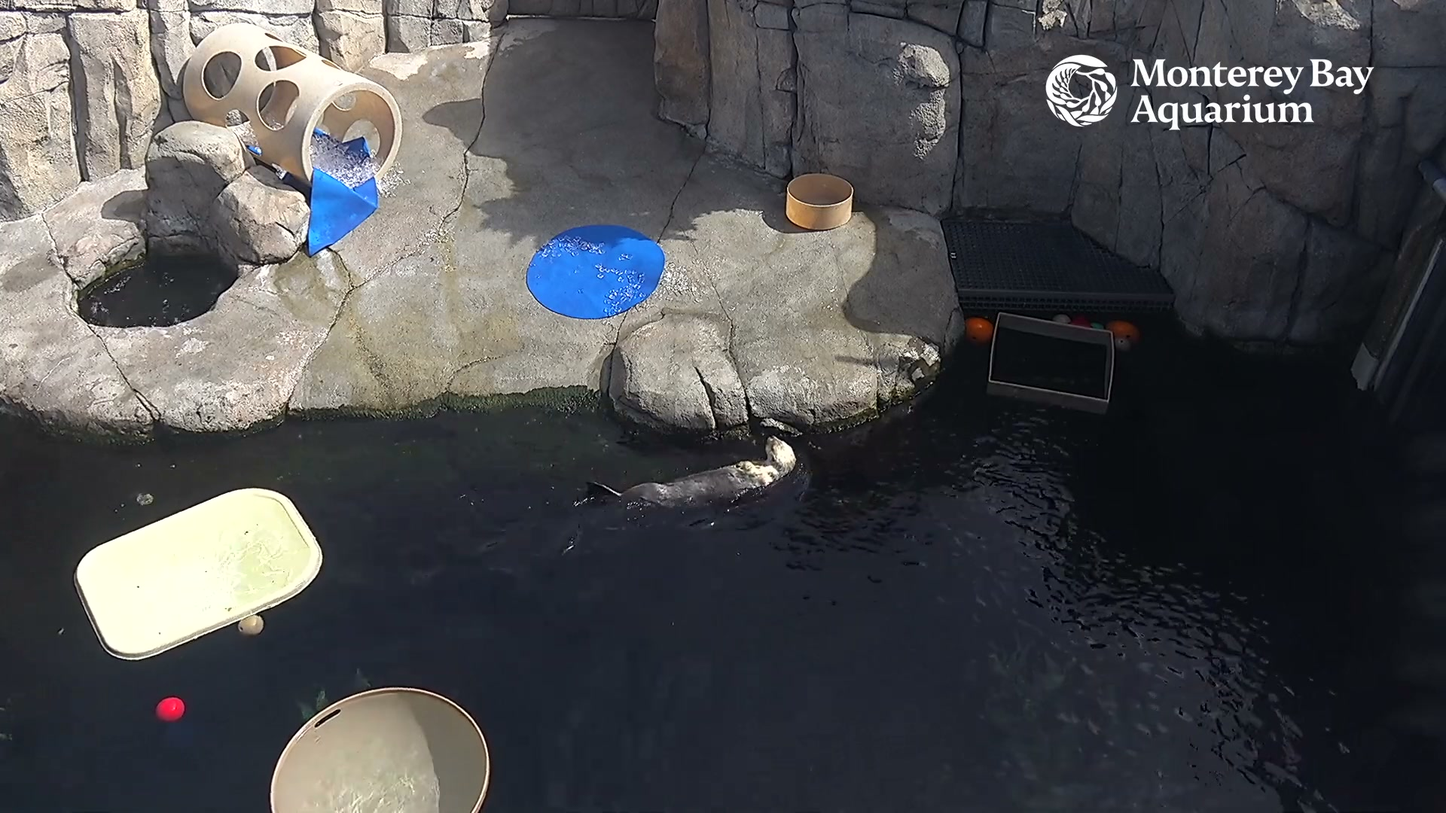Southern Sea Otter: (529, 398, 835, 560)
